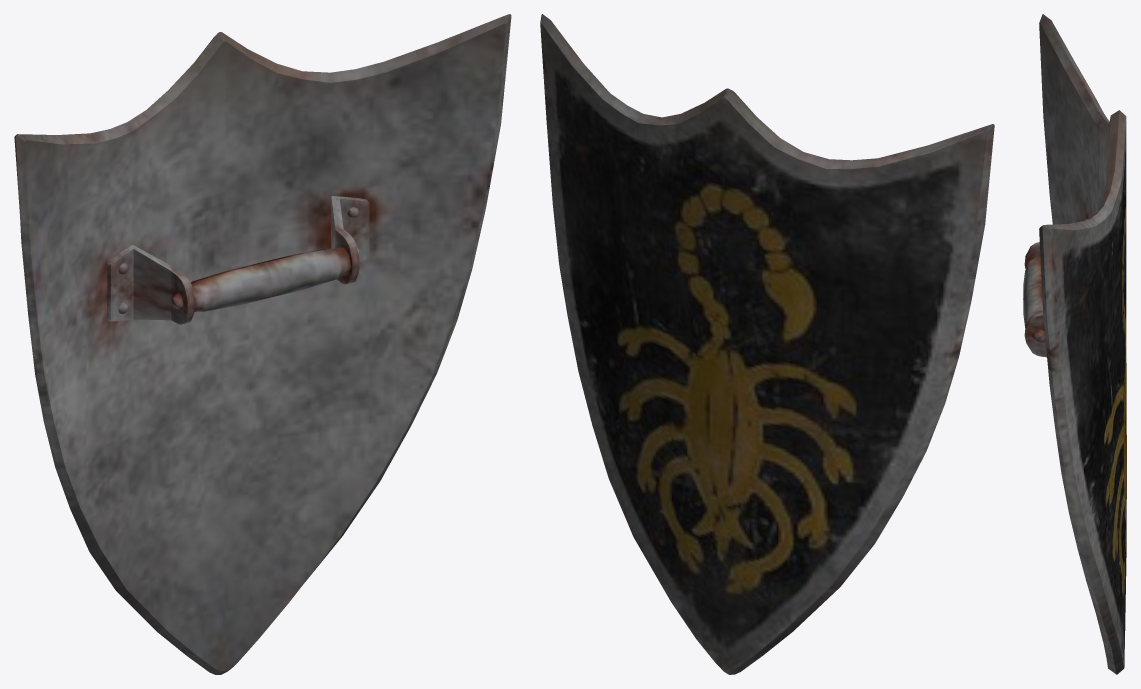
The model's file is weapon-wp_a_2031.glb.
3 views of the same model, side by side, from view 1: azimuth 30°, elevation 25°; view 2: azimuth 150°, elevation 25°; view 3: azimuth 270°, elevation 25° (orthographic). The views are drawn at different scales.
Visible parts, largest first — view 1: wp_a_2031_mesh; view 2: wp_a_2031_mesh; view 3: wp_a_2031_mesh.
Boxes of the visible parts, x1,y1,x2,y2 form: wp_a_2031_mesh: (14, 14, 511, 674); wp_a_2031_mesh: (540, 14, 994, 674); wp_a_2031_mesh: (1023, 14, 1126, 674).
Bounding box in the file's own units: 0.5604 × 0.694 × 0.1157.
Materials: 1 (1 with a texture image).
